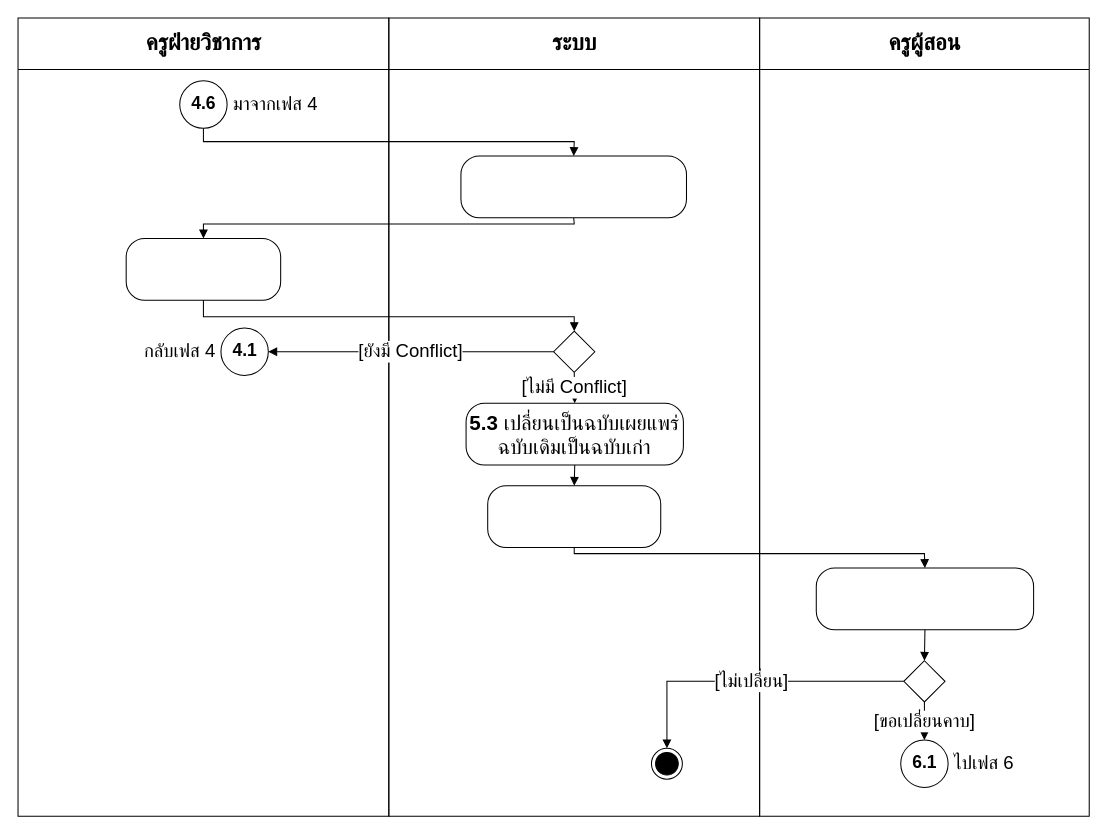
Image size: 1107x834. Some labels were removed from this diagram. The centre of each missing label's shape, as x and y in pixels:
"5.1 แสดงตัวอย่าง 3 มุมมอง ห้อง ครู และนักเรียน" goes at pixel 573 186.
"5.2 ตรวจตาราง และกด “เผยแพร่”" goes at pixel 203 268.
"5.4 บันทึกประวัติ และแจ้งเตือนครูผู้สอน" goes at pixel 574 516.
"5.5 ดูตารางสอนของตนเอง รายวันหรือรายสัปดาห์" goes at pixel 924 598.
